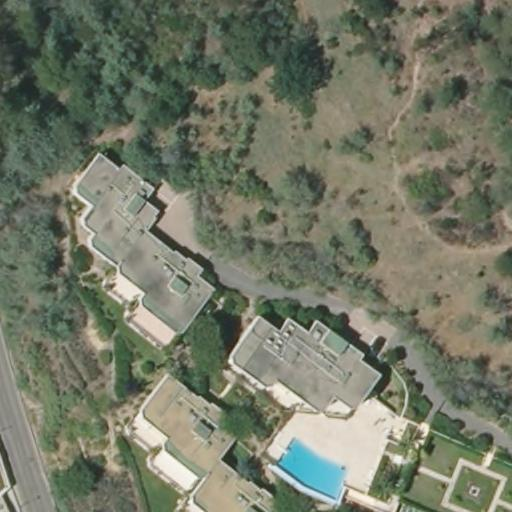pool: (270, 438, 349, 501)
